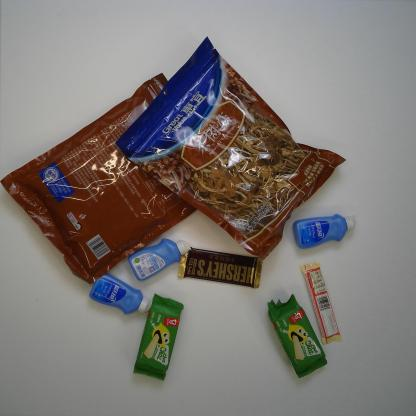Chocolate: (178, 246, 263, 288), (301, 262, 343, 346)
Dessert: (266, 293, 328, 379), (132, 293, 184, 382)
Dried Food: (115, 36, 347, 259), (0, 72, 217, 285)
Personal Hygiene: (127, 238, 193, 282), (89, 273, 153, 315), (292, 213, 356, 250)
